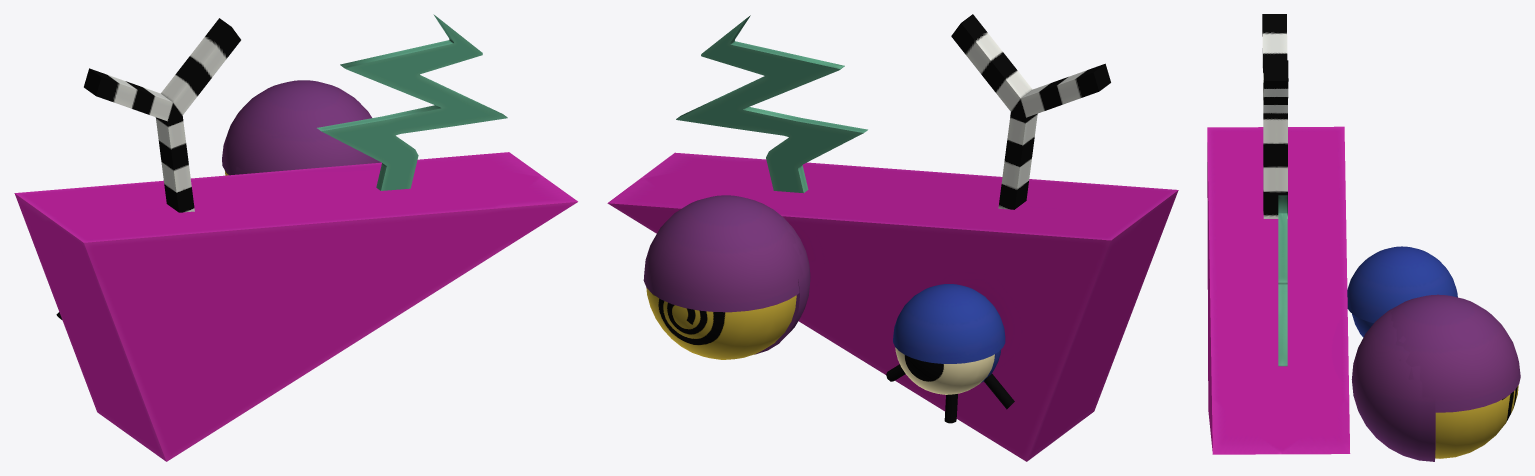
The model's file is zooble.glb.
The picture shows the model from 3 angles, left to right: view 1: azimuth 30°, elevation 25°; view 2: azimuth 150°, elevation 25°; view 3: azimuth 270°, elevation 25°; orthographic projection.
Visible parts, largest first — view 1: zooble; view 2: zooble; view 3: zooble.
Part boxes in pixels (x1,y1,x2,y2): zooble: (14,14,577,461); zooble: (607,14,1178,461); zooble: (1207,14,1520,461).
Bounding box in the file's own units: 1.77 × 1.33 × 0.9571.
4 materials, 4 textured.
